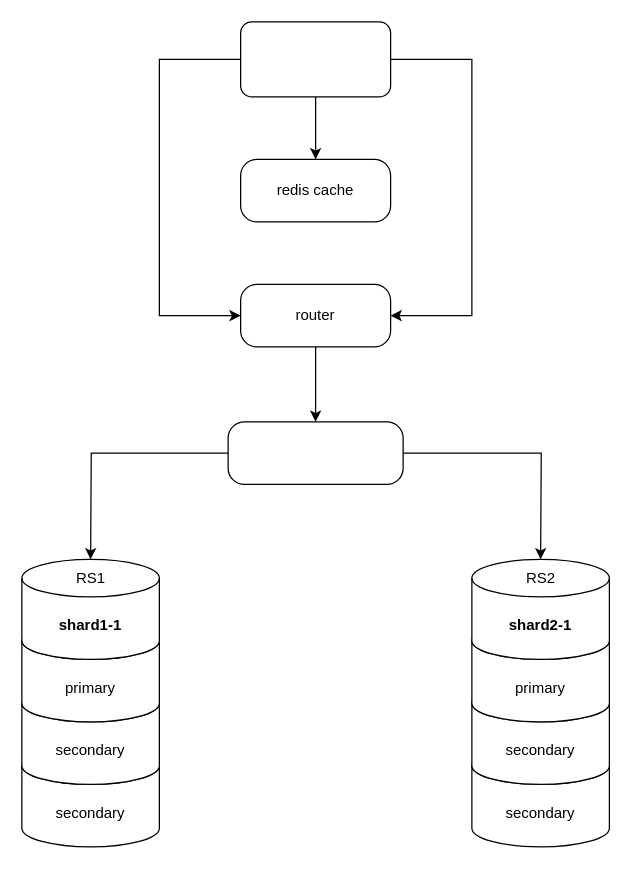
The diagram is 631 pixels wide and 869 high, and some of its shapes have lost their labels. Here are the shapes that lost their labels. From the top down, the centre of each, then its label:
At point 315,59: "pymongo-api".
At point 315,452: "configServer".
